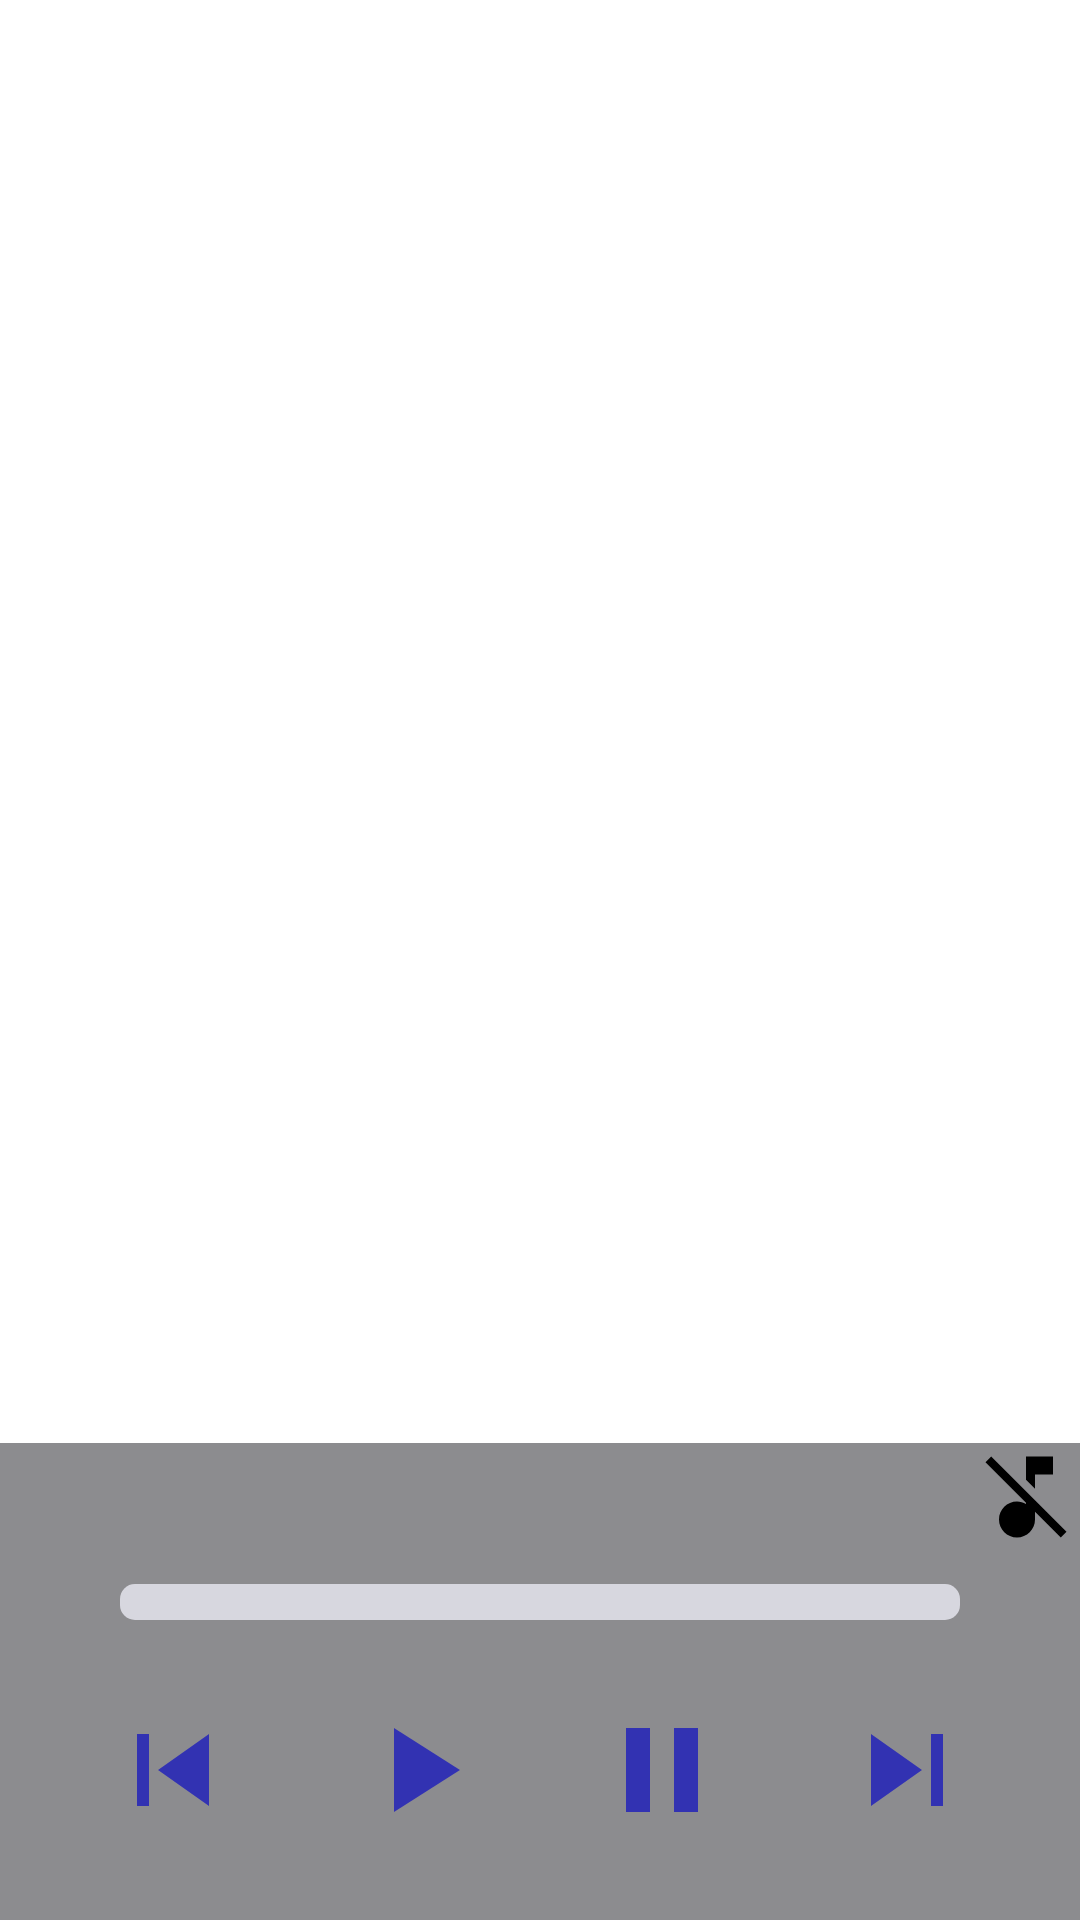

Where to tap for icons on this 1080 x 1920 app screen, as (x,y):
music off: (1026,1497)
pause: (662,1770)
play arrow: (427,1770)
skip next: (907,1770)
skip previous: (173,1770)
